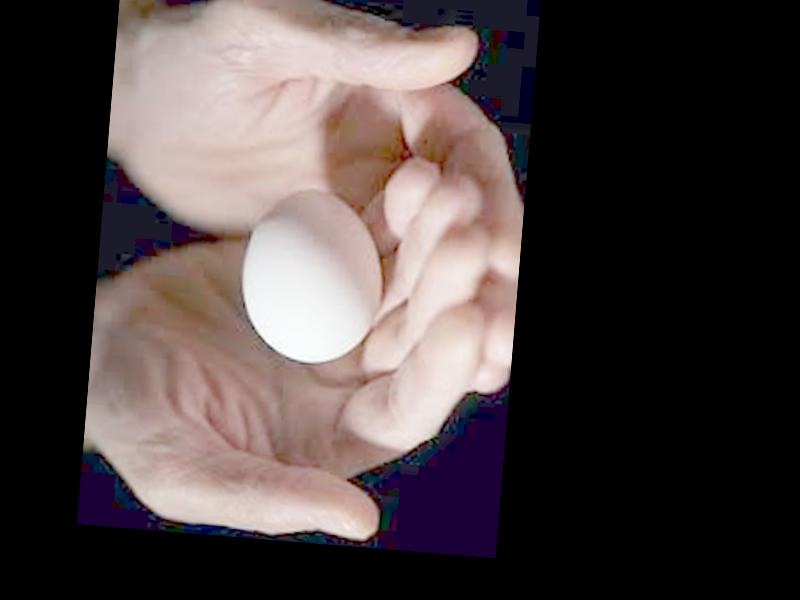Eggs: (235, 186, 387, 368)
